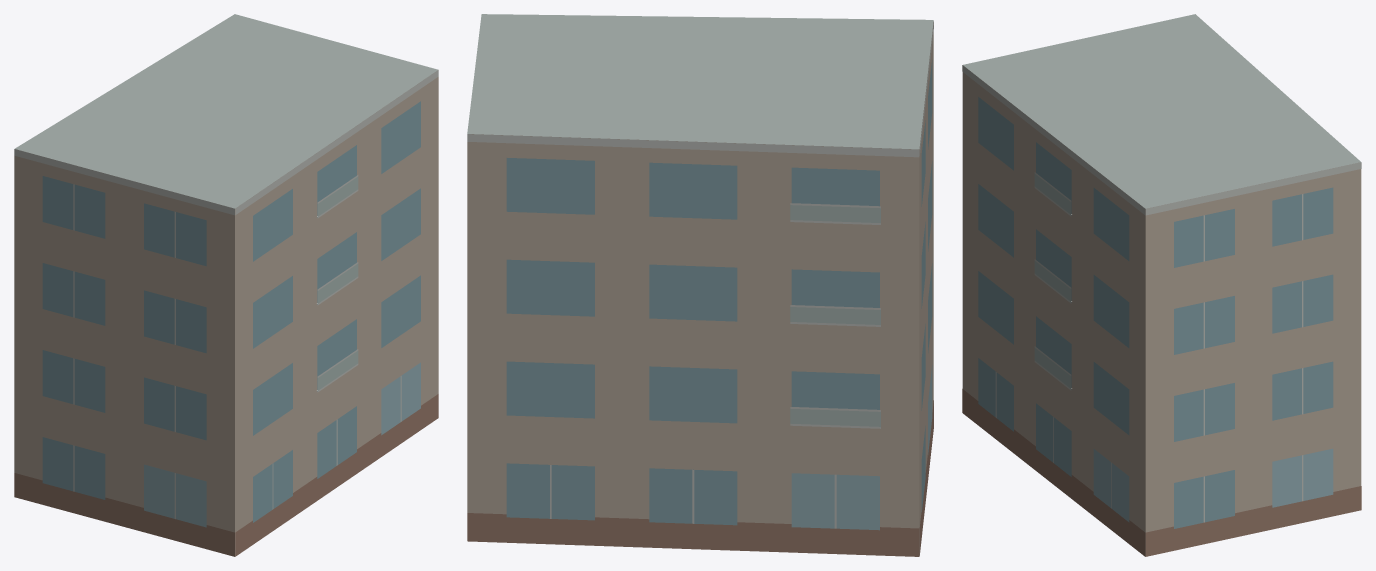
The model's file is survey-upis-32701403.glb.
The picture shows the model from 3 angles, left to right: view 1: azimuth 30°, elevation 25°; view 2: azimuth 150°, elevation 25°; view 3: azimuth 270°, elevation 25°; orthographic projection. The views are drawn at different scales.
Parts seen in each view (by area): view 1: survey-upis-32701403.tmp; view 2: survey-upis-32701403.tmp; view 3: survey-upis-32701403.tmp.
Part boxes in pixels (bbox=[...]): survey-upis-32701403.tmp: bbox=[14, 14, 438, 556]; survey-upis-32701403.tmp: bbox=[467, 14, 933, 556]; survey-upis-32701403.tmp: bbox=[962, 14, 1361, 556].
Bounding box in the file's own units: 15.01 × 12.5 × 12.99.
